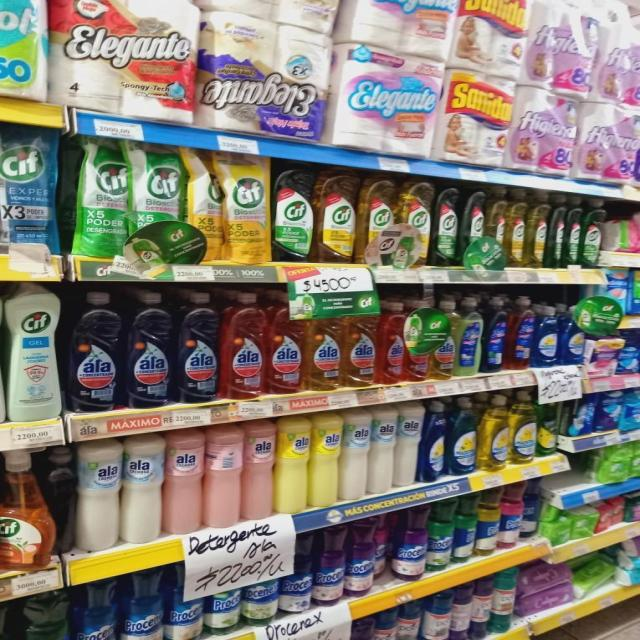ala_conc_amarillo: (306, 298, 342, 392), (343, 300, 377, 388), (431, 297, 455, 381)
ala_conc_azul: (67, 290, 122, 412), (125, 290, 174, 408), (176, 291, 219, 404)
ala_conc_rojo: (222, 292, 266, 399), (268, 291, 304, 395), (378, 300, 405, 385)
ala_crem_amarillo: (276, 416, 309, 514), (310, 411, 340, 508)
ala_crem_blanco: (74, 438, 120, 552), (121, 434, 162, 545), (341, 408, 369, 501), (370, 406, 395, 494), (396, 402, 420, 488)
ala_crem_rosado: (165, 428, 203, 536), (204, 424, 242, 530), (243, 420, 274, 520)
cif_conc_bot_amarilla: (316, 170, 356, 264), (359, 176, 397, 265), (398, 180, 431, 267), (506, 188, 526, 268)
cif_conc_botella_verde: (272, 164, 314, 263), (433, 185, 460, 268), (582, 198, 604, 269)
cif_conc_sachet_amarillo: (223, 152, 270, 264), (188, 149, 222, 264)
cif_conc_sachet_verde: (131, 141, 188, 265), (71, 134, 128, 258)
magistral_con_amarillo: (479, 394, 509, 472), (511, 391, 536, 465)
magistral_con_azul: (448, 396, 477, 476), (422, 400, 446, 482), (534, 304, 559, 367), (561, 304, 584, 365)
zorro: (457, 296, 482, 377), (508, 297, 533, 370), (484, 296, 506, 374)
